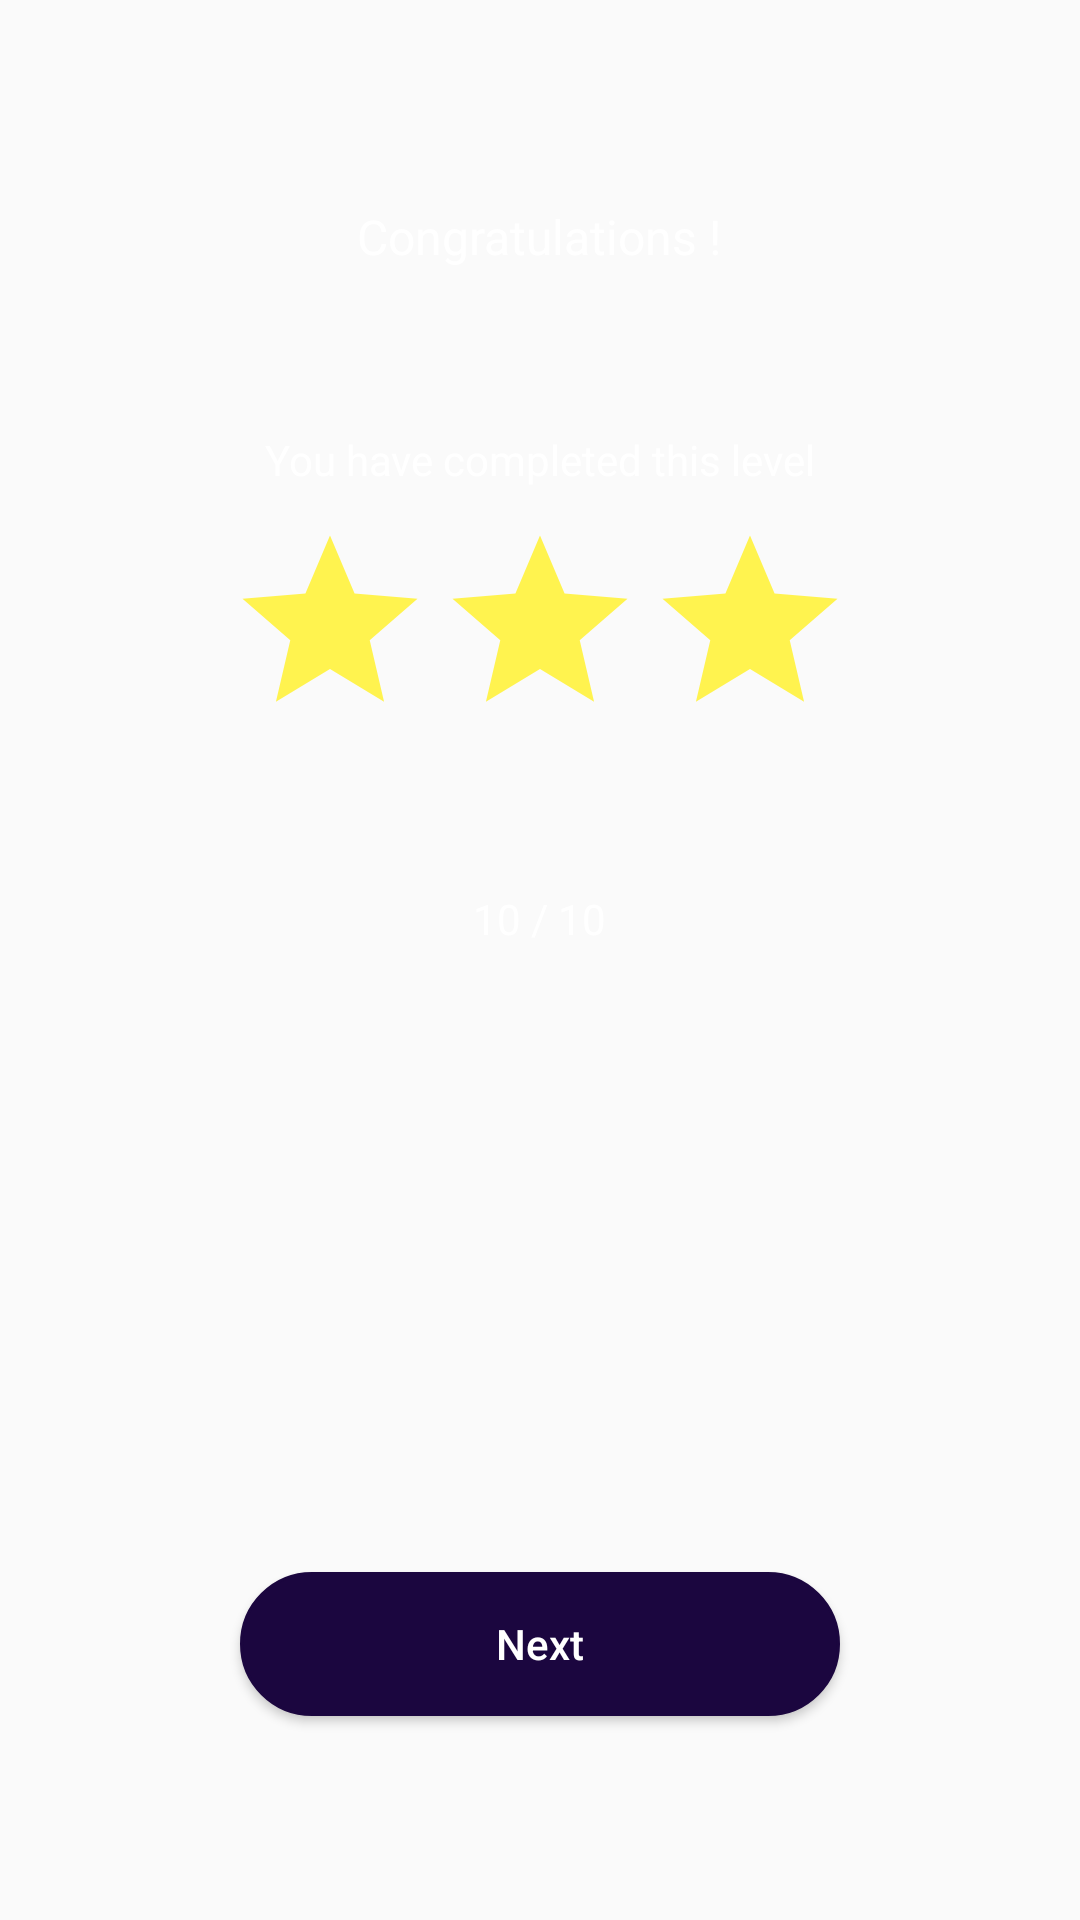

Icon click points for this 1080px×1920px phone screenshot, format point (x, y):
star: point (330, 619), point (540, 619), point (750, 619)
